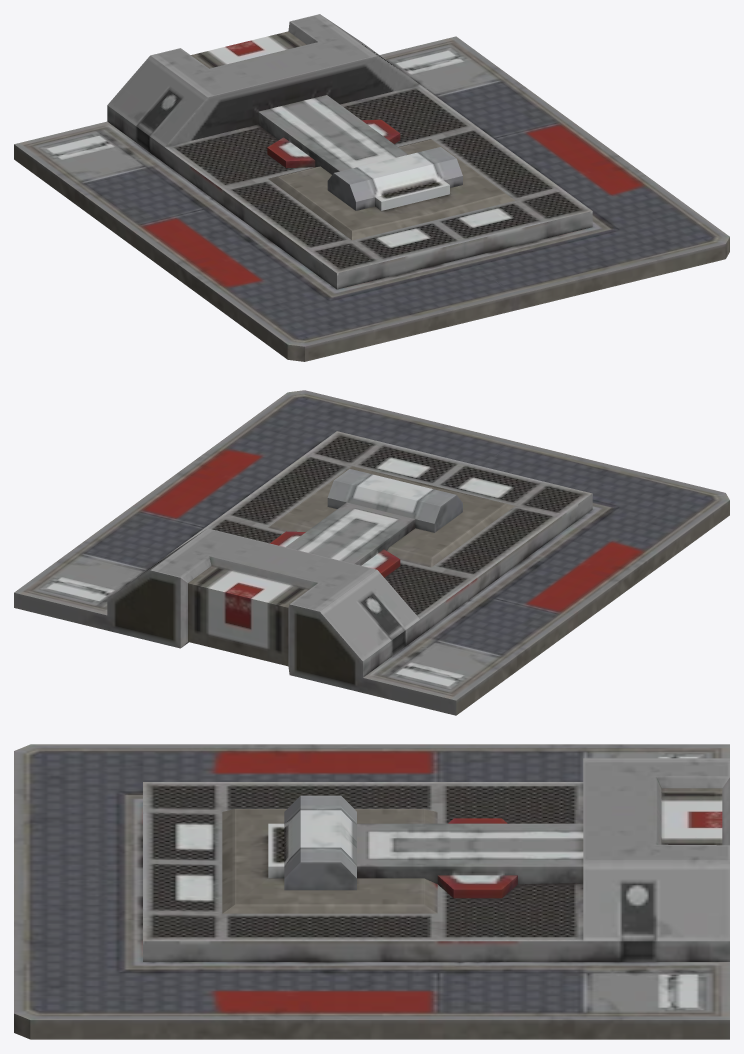
File: Part - Pad 05-Ckwq6zYQ.glb
The picture shows the model from 3 angles, top to bottom: view 1: azimuth 30°, elevation 25°; view 2: azimuth 150°, elevation 25°; view 3: azimuth 270°, elevation 25°; orthographic projection. The views are drawn at different scales.
Parts seen in each view (by area): view 1: Pad_05; view 2: Pad_05; view 3: Pad_05.
Part boxes in pixels (x1,y1,x2,y2): Pad_05: (14,14,729,361); Pad_05: (14,390,729,715); Pad_05: (14,744,729,1039).
Bounding box in the file's own units: 2.62 × 0.4035 × 2.88.
1 material, 1 textured.
